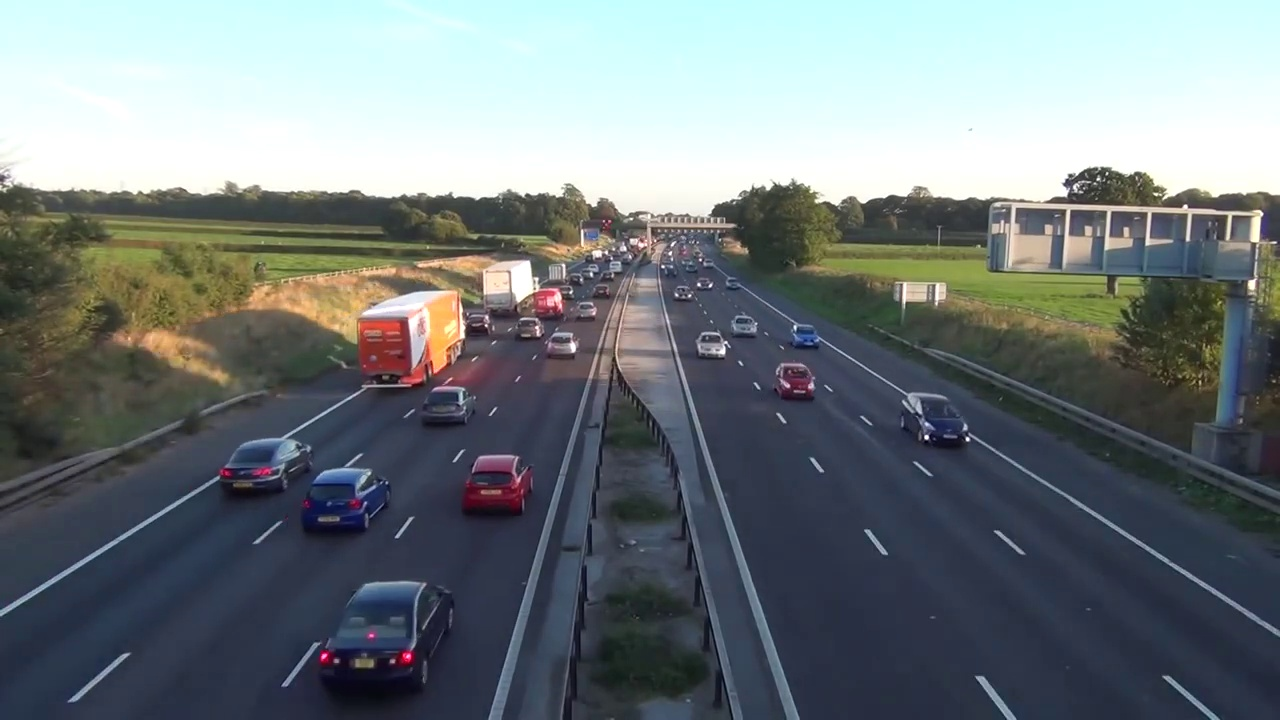bus: (320, 581, 457, 698), (302, 467, 391, 533), (219, 437, 313, 491), (460, 452, 535, 516), (899, 392, 971, 449), (419, 383, 476, 425), (774, 363, 817, 401), (545, 331, 579, 360), (695, 331, 728, 358), (789, 324, 820, 349), (465, 313, 497, 335), (728, 315, 759, 337), (515, 317, 545, 339), (576, 301, 597, 320), (673, 285, 694, 301), (697, 278, 713, 290), (725, 277, 739, 290)
car: (355, 291, 466, 389), (483, 259, 542, 318)
minibus: (536, 288, 563, 317)
